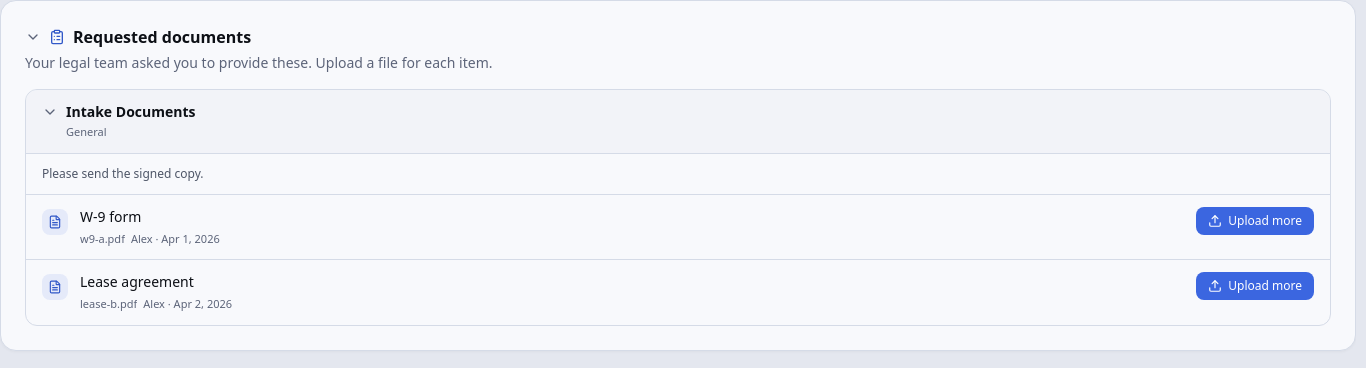
RequestedDocumentsPanel request note › keeps the note mounted when the request collapses, so it shrinks with the body
This screenshot has width=1366, height=368.
Click the button "Intake Documents General" at (131, 112), box [26,90,1330,154]
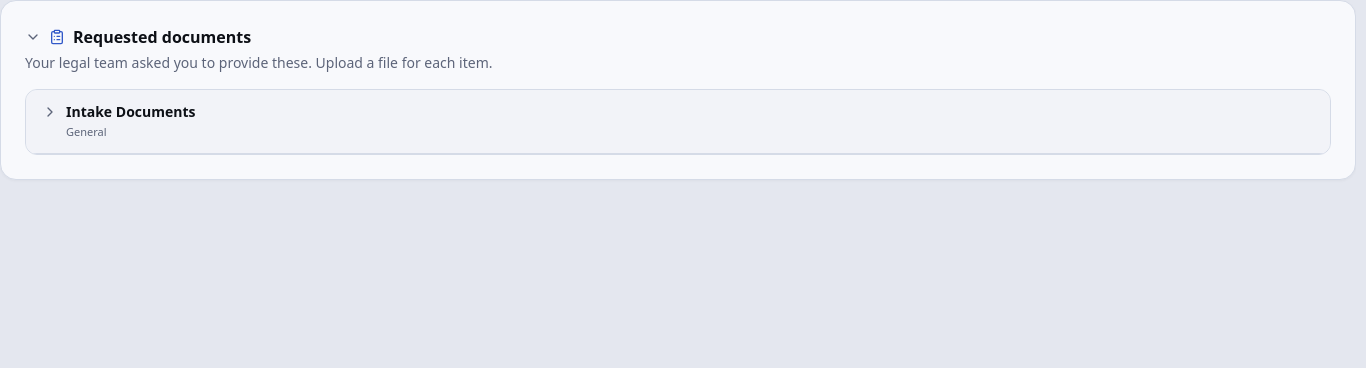
Check: the button "Intake Documents General" is collapsed, box [26,90,1330,154]
